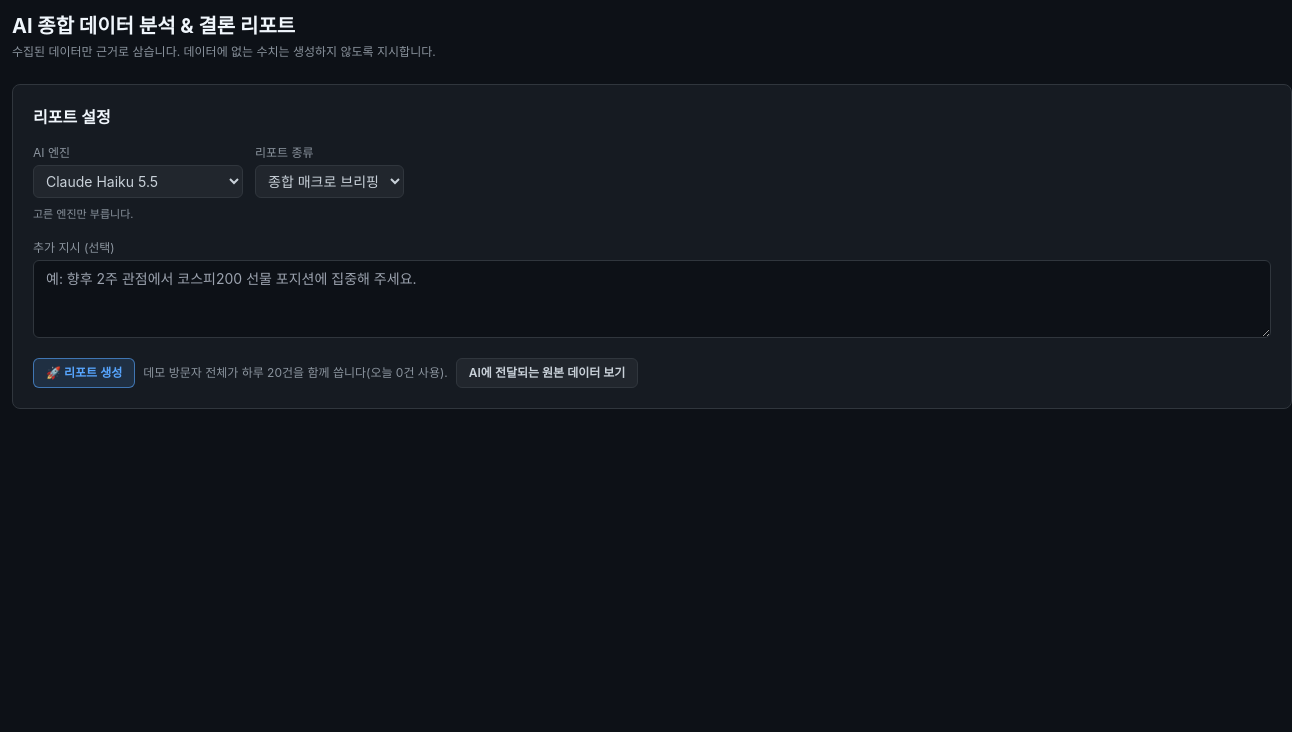
Test: 데모 열람 — 쓰기 버튼 › AI 리포트: 공용 한도를 다 쓰면 서버 문구를 그대로 보인다
Click the button "🚀 리포트 생성": (84, 373) [33, 358, 135, 388]
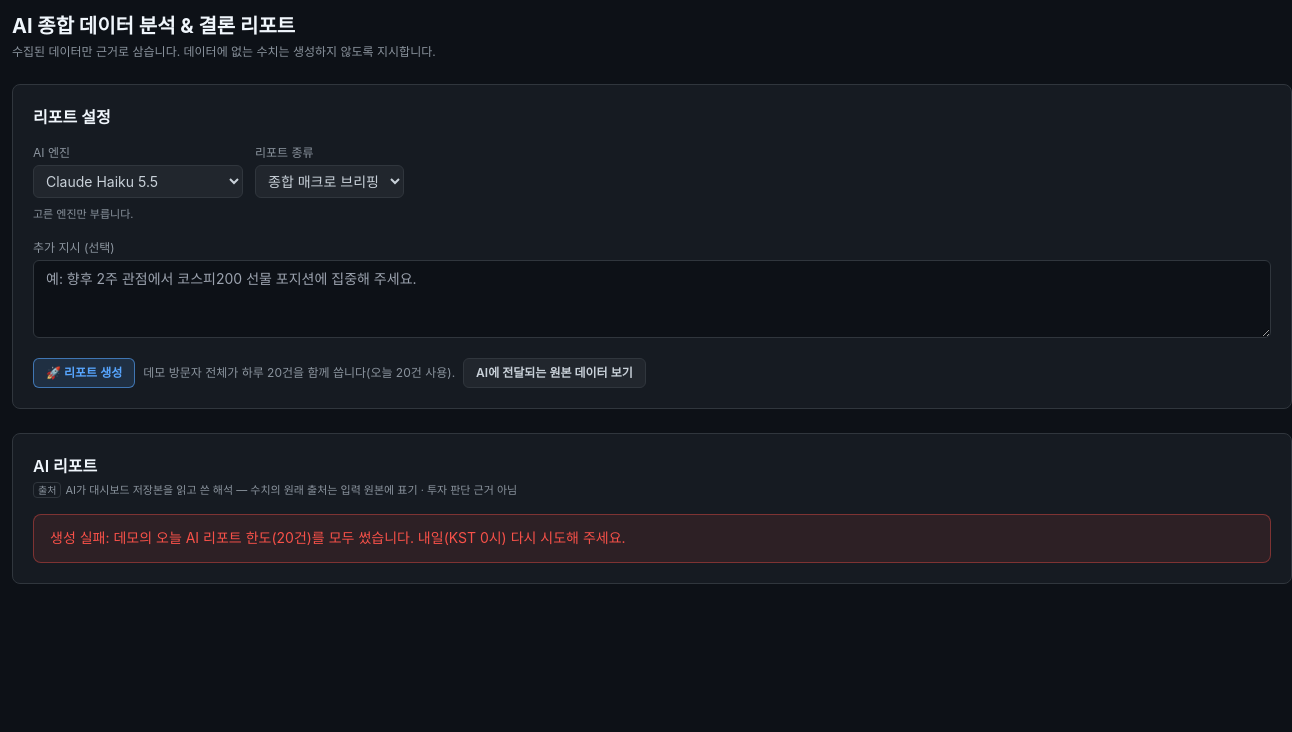
Result: the text "데모의 오늘 AI 리포트 한도(20건)를 모두 썼습니다" is shown at [113, 529, 626, 546]
Result: the text "데모 방문자 전체가 하루 20건을 함께 씁니다(오늘 20건 사용)." is shown at [143, 365, 455, 381]
